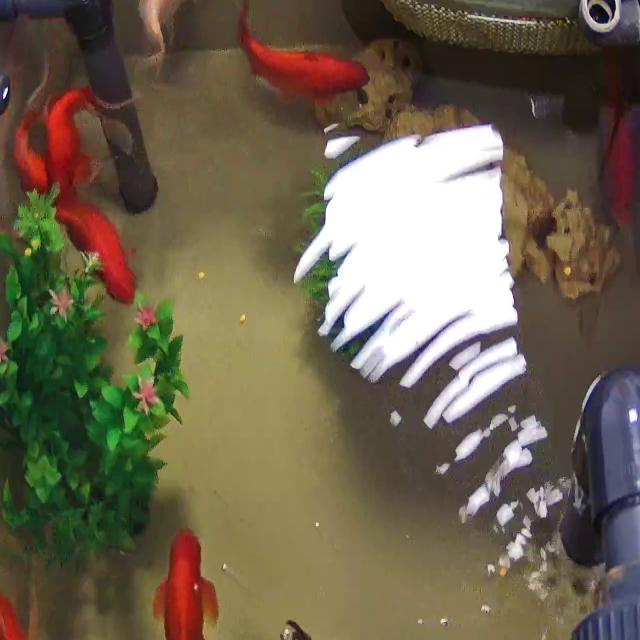fish: (216, 0, 366, 114), (577, 56, 640, 226), (47, 195, 151, 292), (150, 522, 224, 640), (46, 75, 116, 184), (126, 0, 214, 82), (14, 64, 49, 198), (0, 548, 34, 640), (274, 612, 374, 640)
